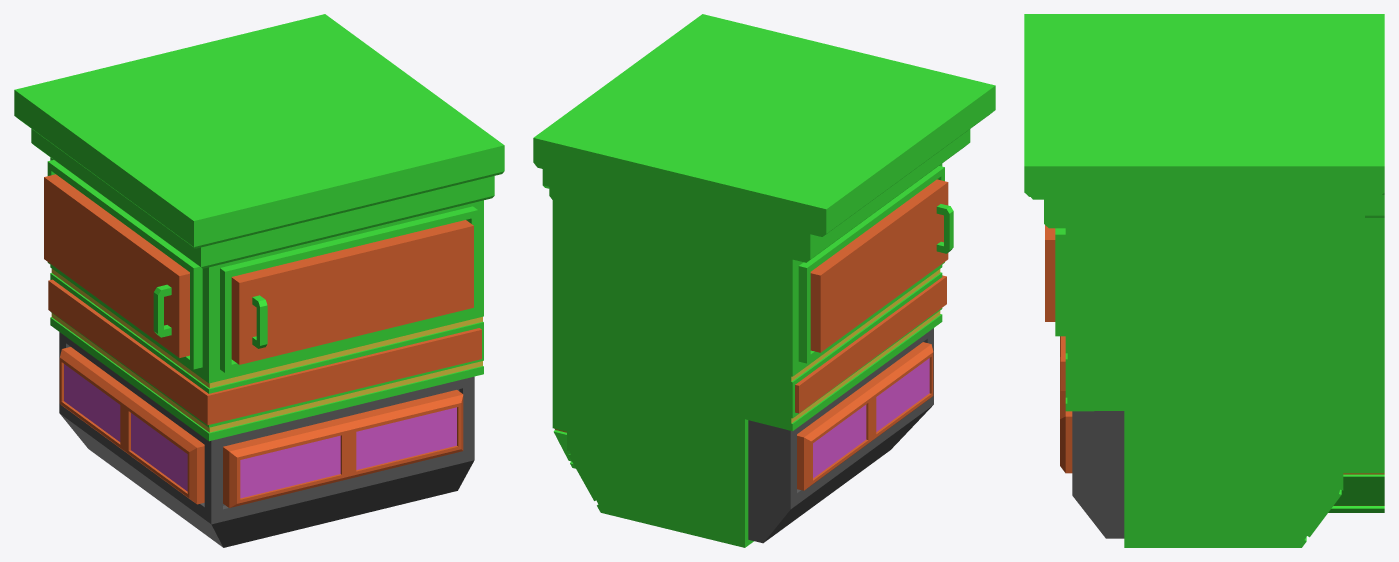
Rendered from Bar_Ceiling_01_Corner_B.fbx.
3 views of the same model, side by side, from view 1: azimuth 30°, elevation 25°; view 2: azimuth 150°, elevation 25°; view 3: azimuth 270°, elevation 25° (orthographic). The views are drawn at different scales.
Visible parts, largest first — view 1: Bar_Ceiling_01_Corner_B; view 2: Bar_Ceiling_01_Corner_B; view 3: Bar_Ceiling_01_Corner_B.
Boxes of the visible parts, <box> form: Bar_Ceiling_01_Corner_B: <box>14,14,504,547</box>; Bar_Ceiling_01_Corner_B: <box>533,14,995,547</box>; Bar_Ceiling_01_Corner_B: <box>1024,14,1384,547</box>.
Bounding box in the file's own units: 91.44 × 107 × 91.44.
